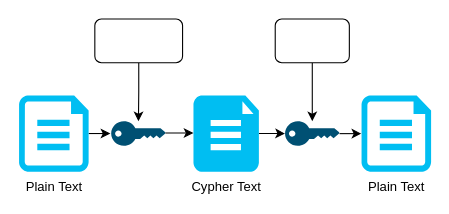
Some shapes in this 449 by 214 pixel diagram are drawn without their labels. The box of each missing label's shape, as (x1, y1, x2, y2) in pixels:
Person 1: (94, 18, 183, 63)
Person 2: (274, 18, 349, 63)
